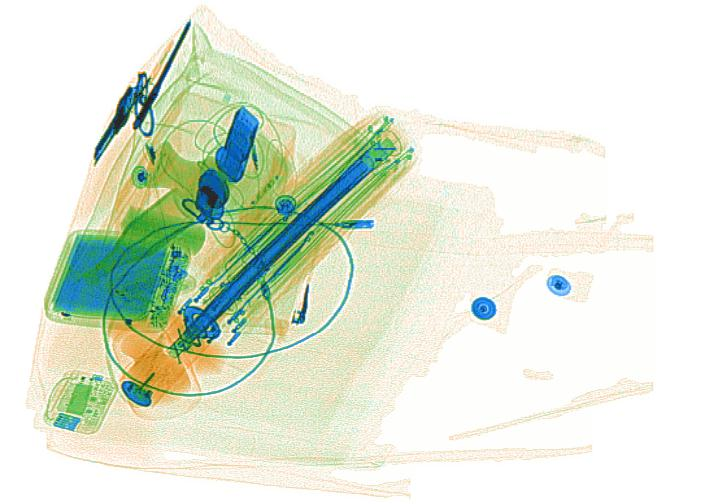seal: (139, 139, 230, 220), (118, 328, 190, 409)
